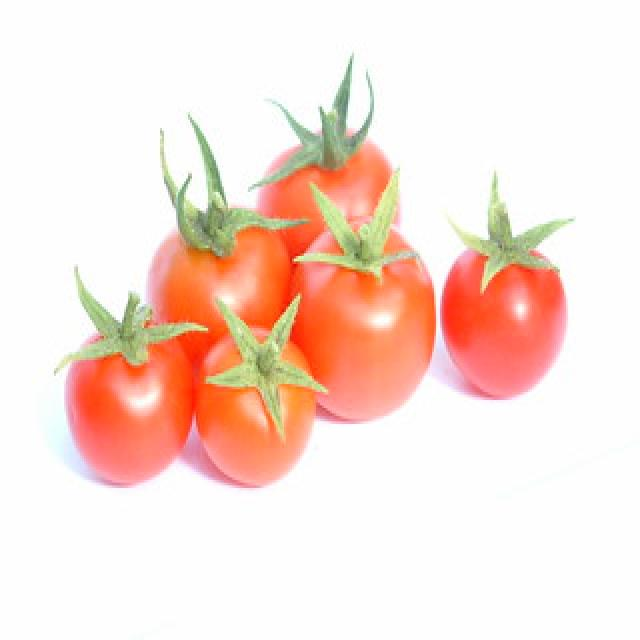Tomato: (294, 166, 436, 424), (144, 111, 292, 352), (438, 168, 577, 402), (257, 51, 399, 276), (60, 284, 196, 488), (190, 292, 318, 490)
